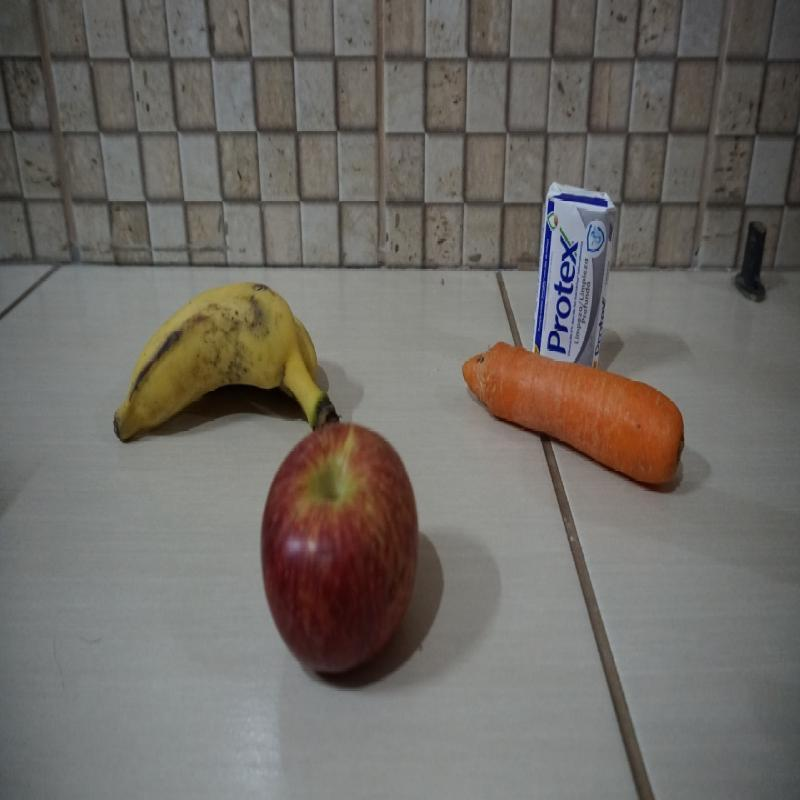Apple: (261, 422, 421, 661)
Banana: (112, 275, 335, 418)
Carrot: (462, 346, 687, 492)
Soap: (535, 180, 619, 341)
